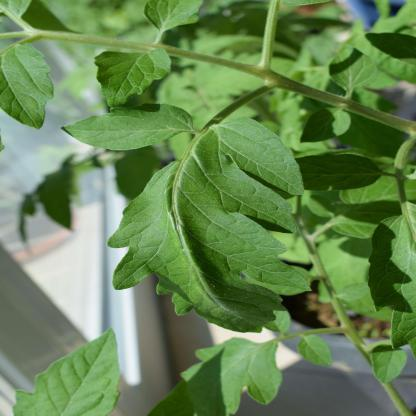tomato leaf: (122, 110, 334, 333), (91, 39, 191, 113), (69, 102, 205, 156), (1, 43, 64, 144)
